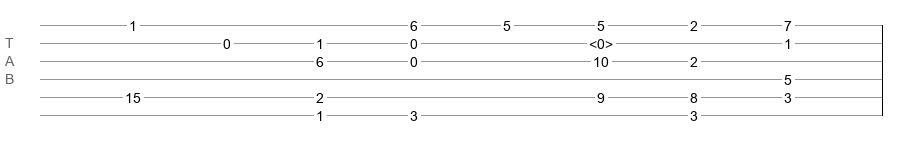0: (223, 36, 231, 46), (410, 36, 418, 46), (410, 54, 418, 64)
1: (129, 18, 137, 28), (316, 108, 324, 118), (316, 36, 324, 46), (784, 36, 792, 46)
10: (593, 54, 609, 64)
15: (125, 90, 141, 100)
2: (316, 90, 324, 100), (690, 18, 698, 28), (690, 54, 698, 64)
3: (410, 108, 418, 118), (690, 108, 698, 118), (784, 90, 792, 100)
5: (503, 18, 511, 28), (597, 18, 605, 28), (784, 72, 792, 82)
6: (316, 54, 324, 64), (410, 18, 418, 28)
7: (784, 18, 792, 28)
8: (690, 90, 698, 100)
9: (597, 90, 605, 100)
harmonic: (589, 36, 613, 46)
